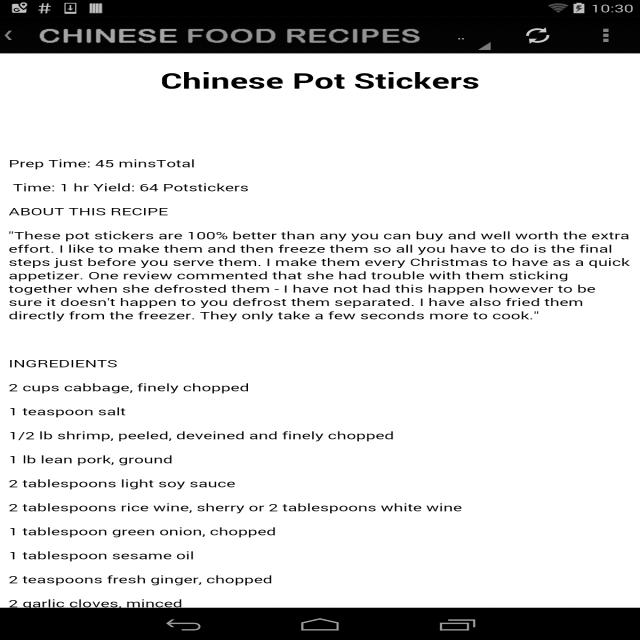ImageButton: (519, 25, 563, 49), (4, 28, 24, 49), (597, 26, 615, 48)
TextView: (5, 229, 632, 326), (1, 495, 480, 516), (157, 66, 486, 93), (2, 424, 411, 444), (33, 28, 430, 44), (3, 544, 206, 566), (3, 154, 207, 174), (2, 200, 180, 219), (1, 354, 129, 371)
